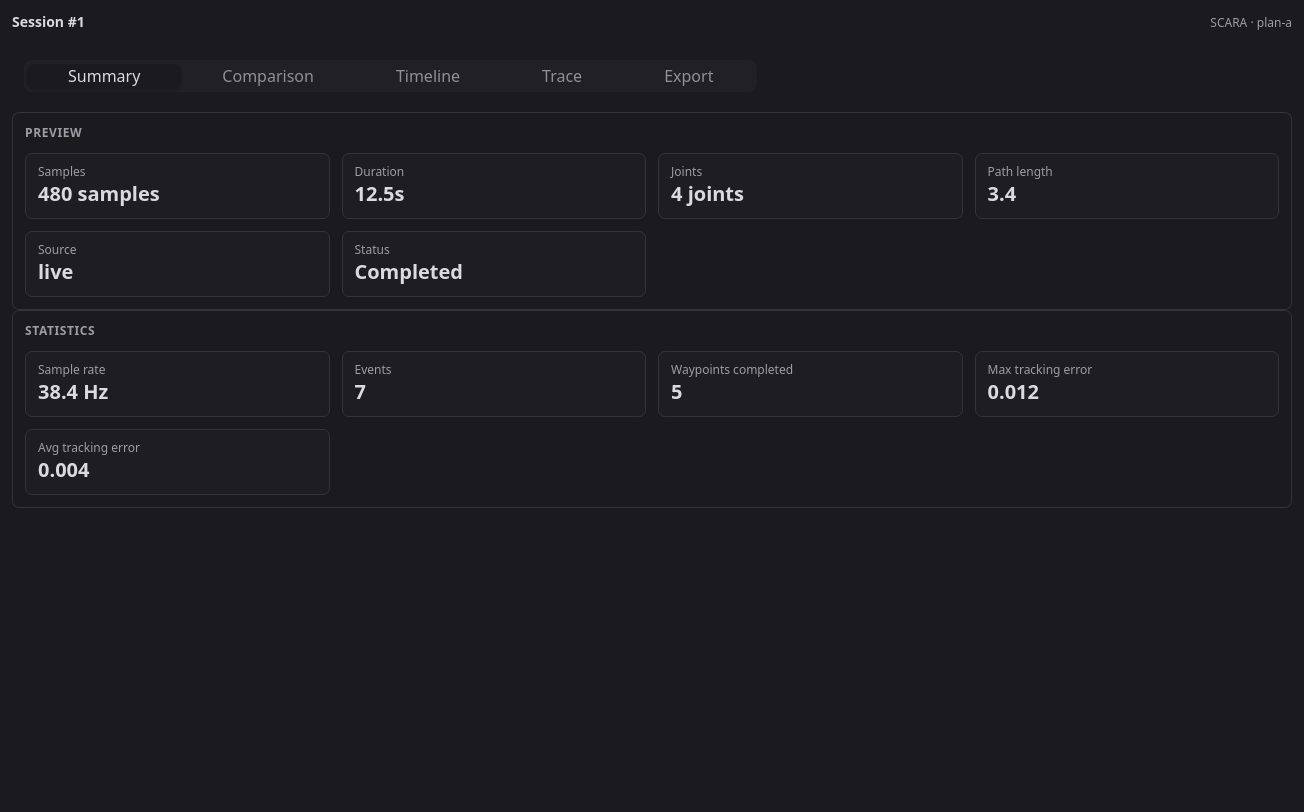
Test: SessionDetail tabs — purely compositional (P4) › Comparison tab: fetches /comparison, renders the per-joint RMSE chart + readout + observations
expect the text "480 samples" is shown: met, box [38, 180, 160, 207]
Click the tab "Comparison" at (268, 76), box [181, 64, 355, 88]
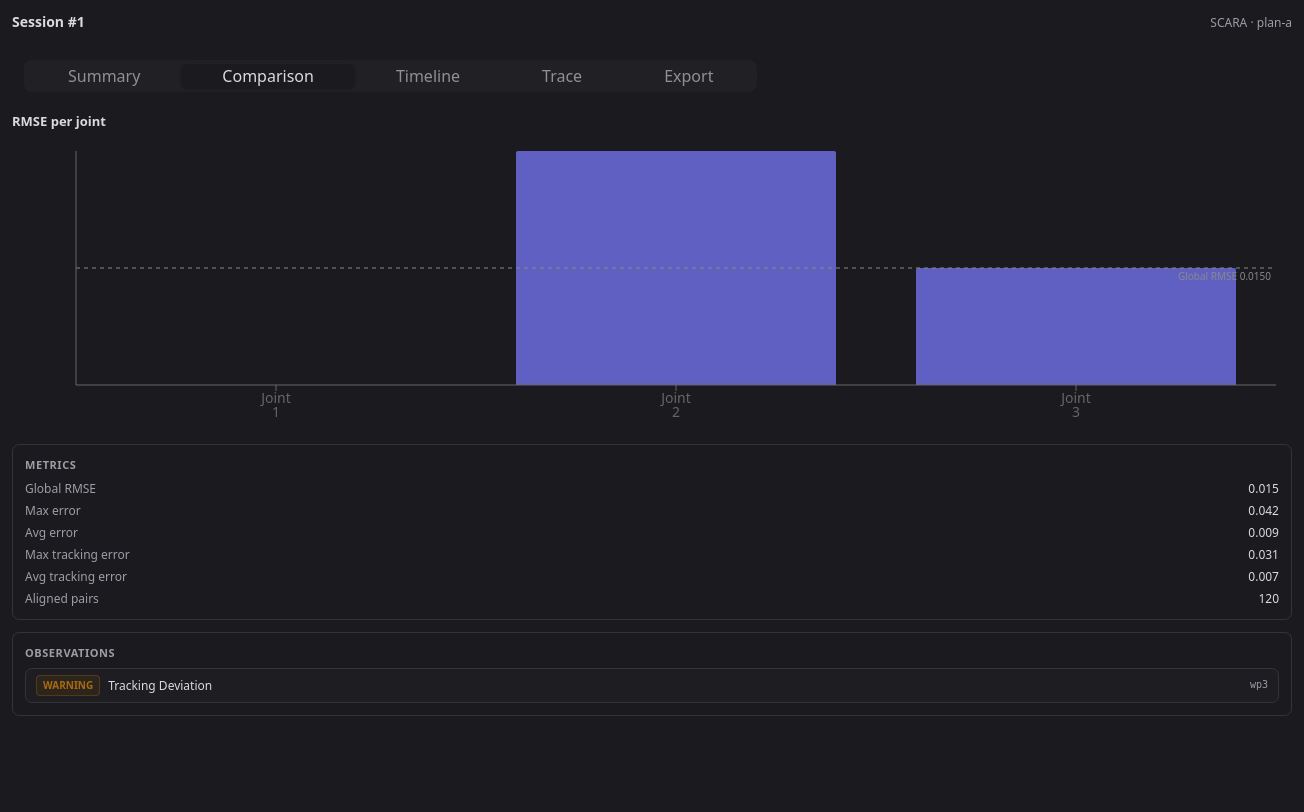
expect the element with test id "chart" is shown: met, box [12, 112, 1292, 432]
expect the text "0.015" is shown: met, box [1248, 480, 1279, 497]
expect the text "0.042" is shown: met, box [1248, 502, 1279, 519]
